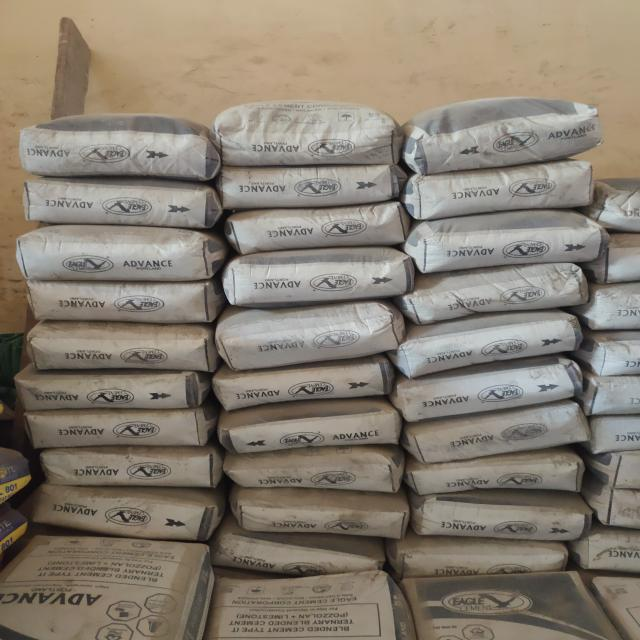Cement: (14, 537, 165, 639), (212, 572, 412, 640), (414, 572, 600, 640), (228, 249, 412, 307), (24, 121, 213, 174), (28, 175, 217, 228), (22, 228, 211, 281), (34, 486, 219, 538), (216, 110, 401, 162), (227, 305, 404, 357), (419, 112, 592, 160), (18, 370, 201, 414), (33, 281, 215, 325), (31, 328, 213, 372), (416, 417, 588, 459), (409, 375, 580, 417), (410, 272, 581, 314), (26, 411, 204, 451), (47, 446, 220, 487), (404, 323, 576, 364), (419, 227, 606, 264), (410, 176, 596, 213), (230, 167, 392, 207), (242, 208, 404, 248), (238, 448, 404, 487), (239, 496, 405, 535), (212, 536, 381, 574), (400, 544, 568, 582), (226, 369, 393, 407), (231, 403, 398, 441), (416, 499, 584, 536), (416, 459, 584, 494)
